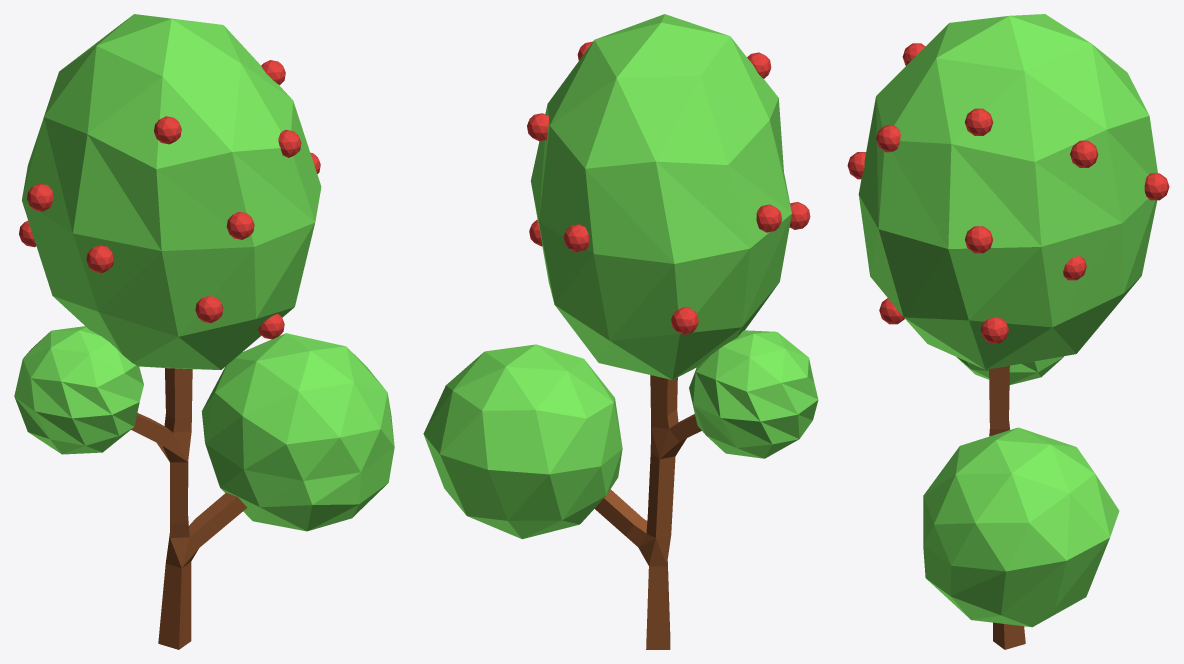
Rendered from Apple tree.fbx.
3 renders of one model, left to right at view 1: azimuth 30°, elevation 25°; view 2: azimuth 150°, elevation 25°; view 3: azimuth 270°, elevation 25°, orthographic.
Parts seen in each view (by area): view 1: Apple tree; view 2: Apple tree; view 3: Apple tree.
Part boxes in pixels (bbox=[...]): Apple tree: bbox=[14, 14, 394, 649]; Apple tree: bbox=[423, 14, 818, 649]; Apple tree: bbox=[847, 14, 1169, 649].
Size of the model in its own units: 209 by 342 by 160.
